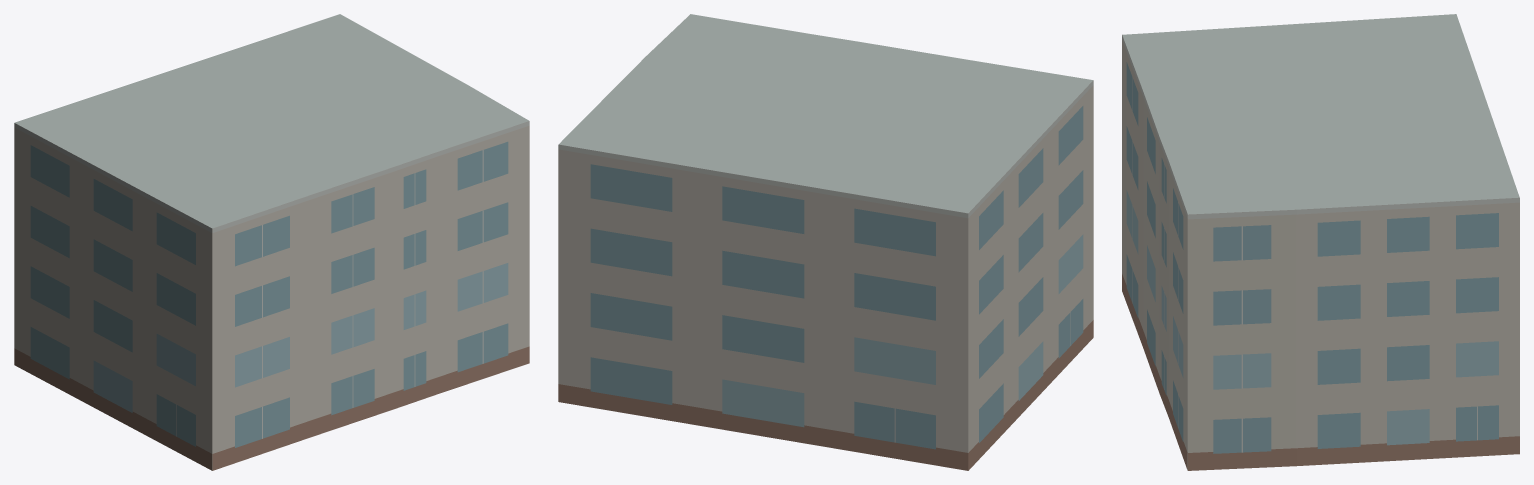
Rendered from survey-upis-32746219.glb.
The picture shows the model from 3 angles, left to right: view 1: azimuth 30°, elevation 25°; view 2: azimuth 150°, elevation 25°; view 3: azimuth 270°, elevation 25°; orthographic projection. The views are drawn at different scales.
Visible parts, largest first — view 1: survey-upis-32746219.tmp; view 2: survey-upis-32746219.tmp; view 3: survey-upis-32746219.tmp.
Boxes of the visible parts, <box> form: survey-upis-32746219.tmp: <box>14,14,529,470</box>; survey-upis-32746219.tmp: <box>558,14,1093,470</box>; survey-upis-32746219.tmp: <box>1122,14,1519,470</box>.
Bounding box in the file's own units: 21.48 × 12.8 × 18.01.
